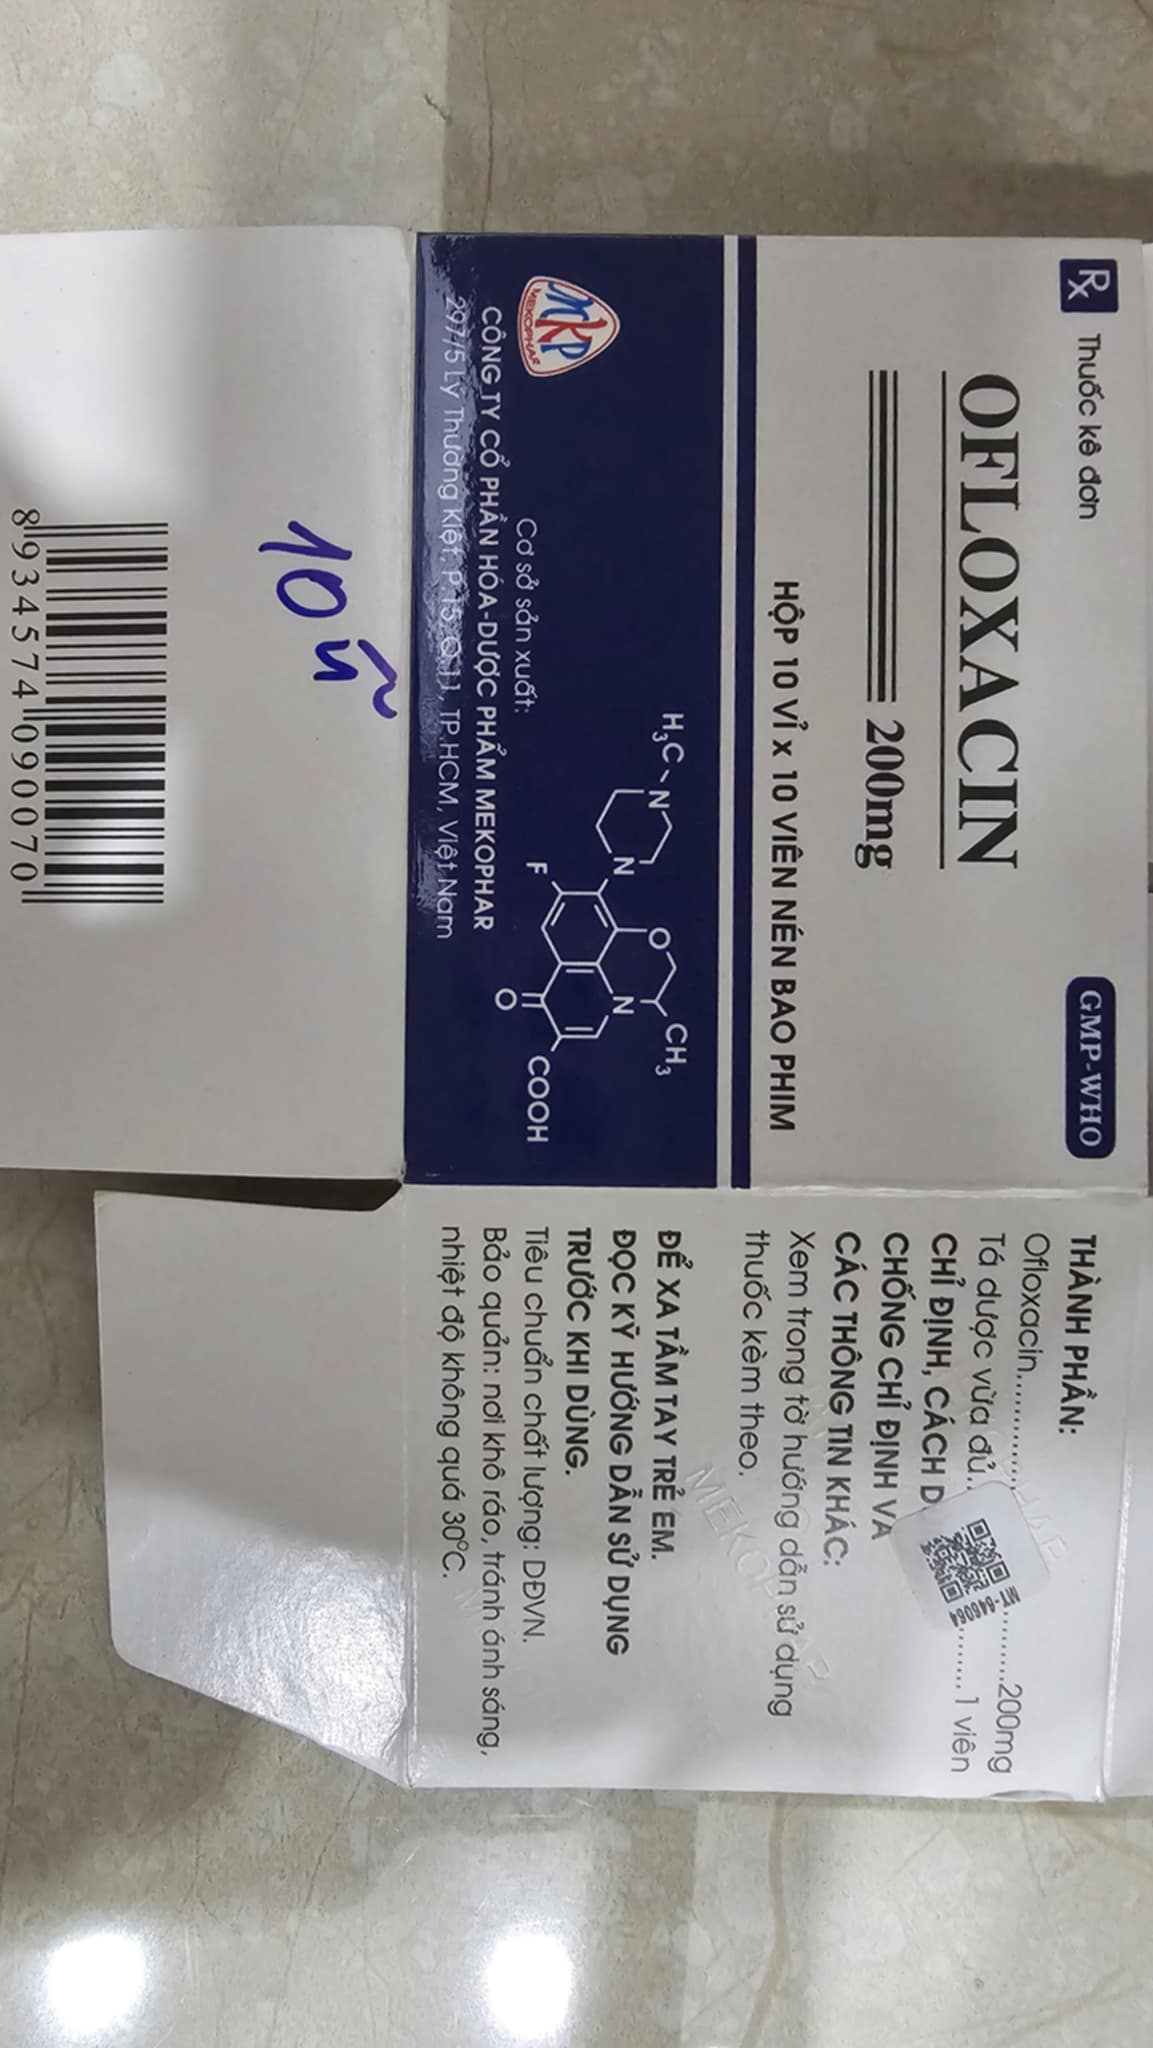Mekocefaclor: (472, 779, 508, 941)
Ofloxacin: (948, 370, 1031, 881)
